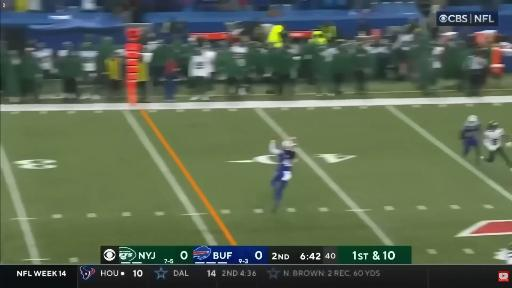Helmet: (487, 121, 499, 130), (282, 140, 294, 149), (467, 115, 478, 122)
Jersey: (270, 142, 295, 180), (189, 55, 210, 77), (32, 49, 53, 70), (484, 128, 504, 150), (461, 123, 480, 146), (230, 46, 249, 67), (80, 51, 98, 73), (202, 50, 217, 73)
Player: (269, 140, 295, 211), (483, 121, 511, 171), (460, 116, 481, 163), (506, 243, 511, 264)
